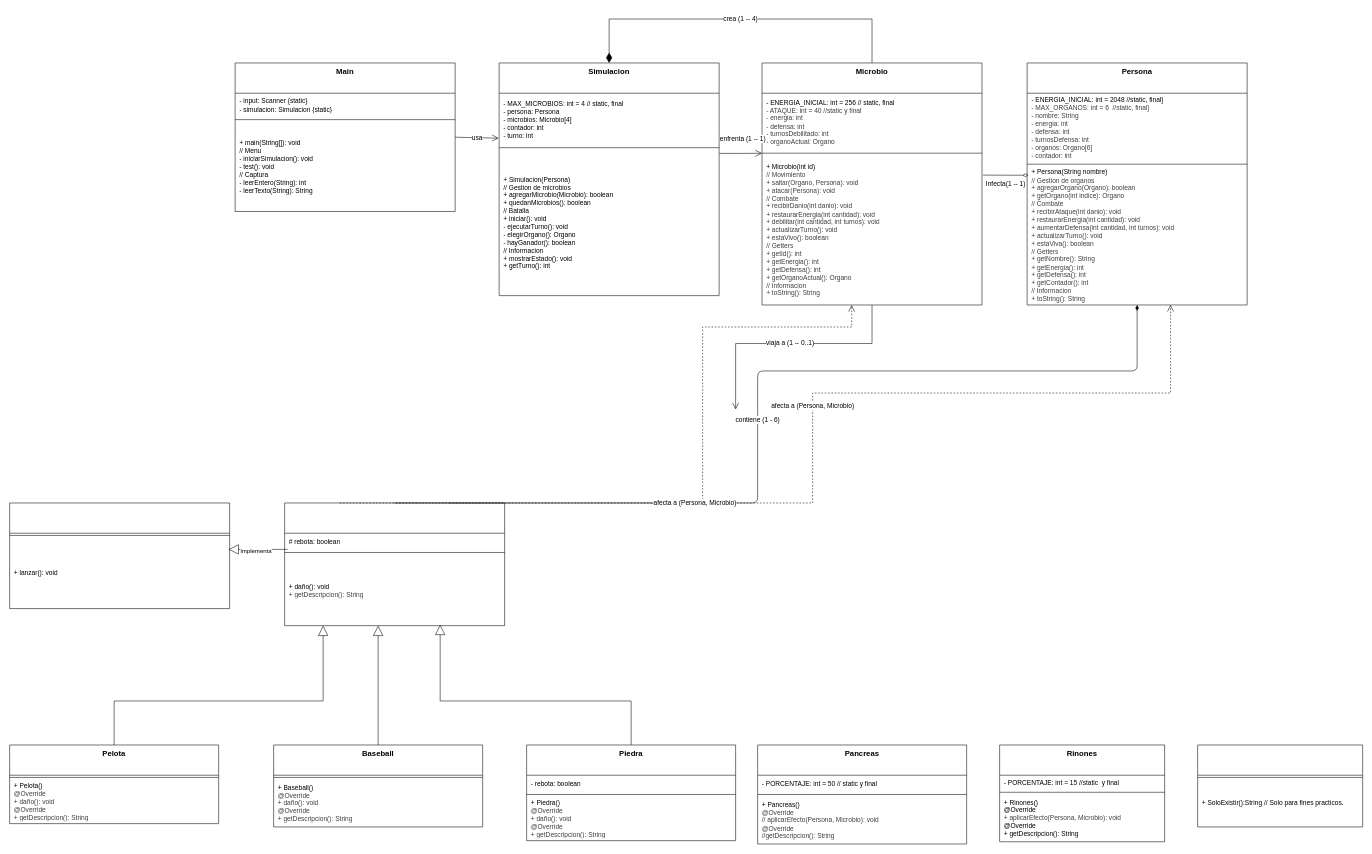
The diagram is 1372 pixels wide and 854 high, and some of its shapes have lost their labels. The box of each missing label's shape, as (x1, y1, x2, y2) in pixels:
<<interface>> ILanzar: (9, 502, 230, 609)
Arrojadizo: (284, 502, 505, 626)
Intestino: (1197, 744, 1363, 827)
